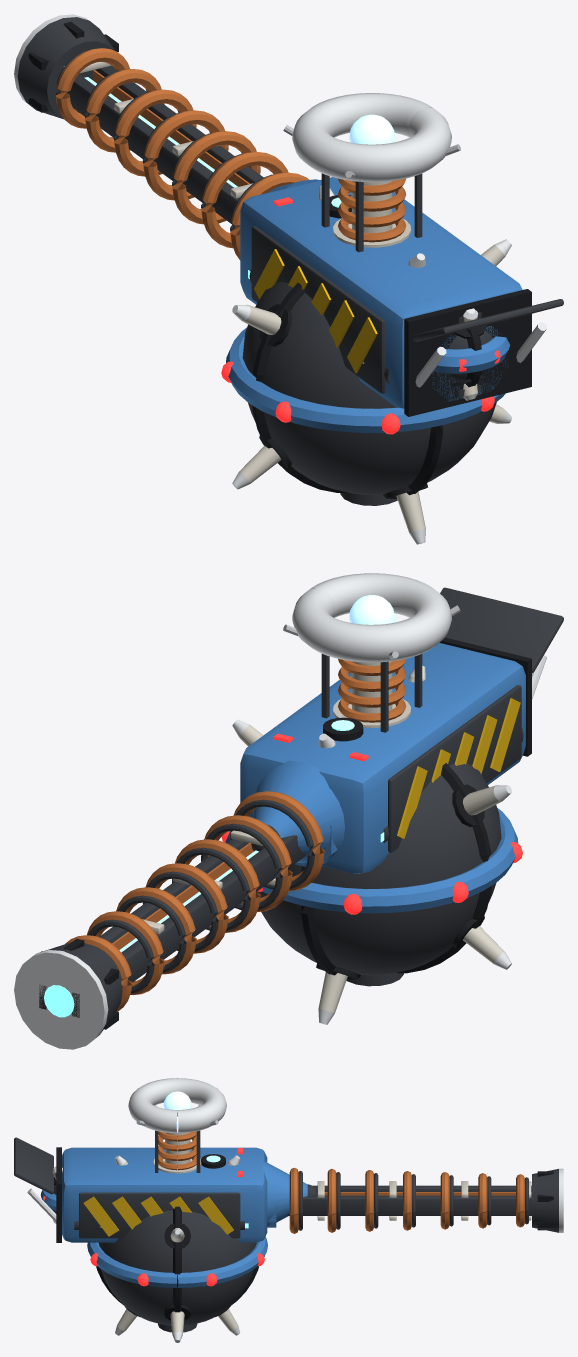
The model's file is weapons.glb.
3 views of the same model, one above another, from view 1: azimuth 30°, elevation 25°; view 2: azimuth 150°, elevation 25°; view 3: azimuth 270°, elevation 25° (orthographic). The views are drawn at different scales.
Parts seen in each view (by area): view 1: MinePodBody, MineBody, RailgunBody, EmpBody, EmpGlow, MineLamps; view 2: MinePodBody, MineBody, RailgunBody, EmpBody, EmpGlow, RailgunGlow, MineLamps; view 3: MinePodBody, MineBody, RailgunBody, EmpBody, EmpGlow, MineLamps.
Boxes of the visible parts, box(x1,y1,x2,y2) form: MinePodBody: box(240, 177, 563, 416); MineBody: box(226, 185, 511, 544); RailgunBody: box(14, 14, 508, 401); EmpBody: box(283, 93, 460, 252); EmpGlow: box(349, 114, 395, 144); MineLamps: box(221, 361, 494, 434); MinePodBody: box(240, 587, 563, 873); MineBody: box(225, 666, 518, 1024); RailgunBody: box(14, 728, 523, 1049); EmpBody: box(283, 573, 460, 732); EmpGlow: box(349, 595, 394, 624); RailgunGlow: box(44, 832, 384, 1017); MineLamps: box(221, 831, 522, 914); MinePodBody: box(14, 1137, 317, 1242); MineBody: box(87, 1155, 267, 1342); RailgunBody: box(74, 1167, 563, 1233); EmpBody: box(128, 1078, 226, 1173); EmpGlow: box(163, 1091, 191, 1126); MineLamps: box(90, 1253, 264, 1286).
Size of the model in its own units: 2.2 by 2.98 by 6.13.
